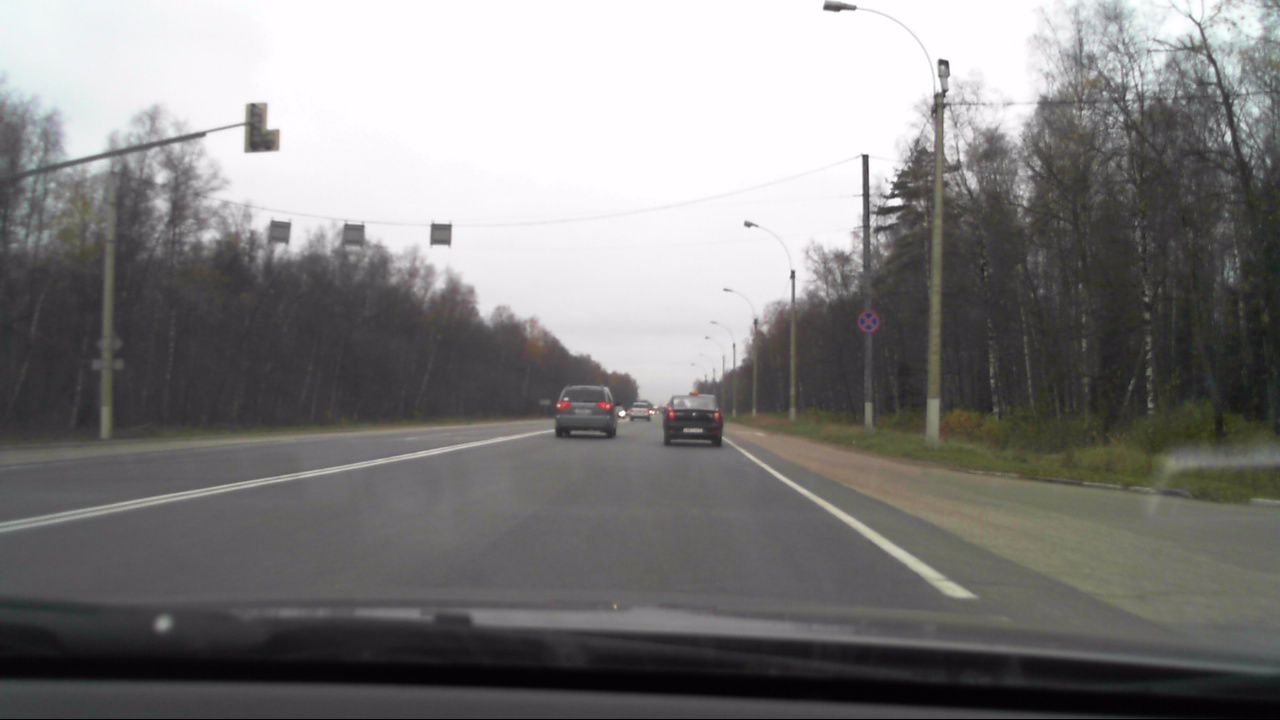No Parking: (856, 311, 878, 333)
